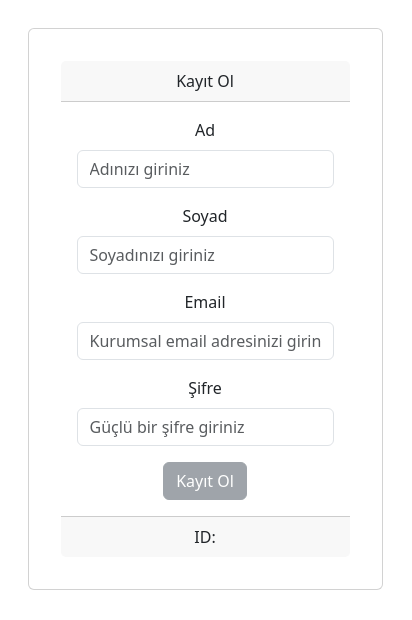
Scenario: Register Page › Error Messages › name input throws error for 2 chars
The width and height of the screenshot is (412, 620).
Type "em" into the field with test id "ad-input" at {"x": 206, "y": 169}, box [77, 150, 334, 188]
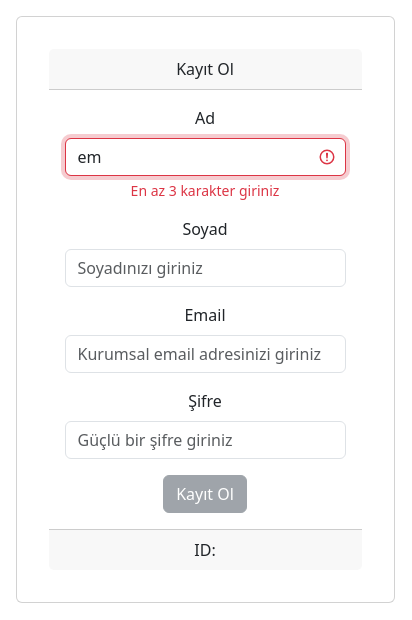
expect the text "En az 3 karakter giriniz" is shown: met, box [131, 180, 279, 200]
